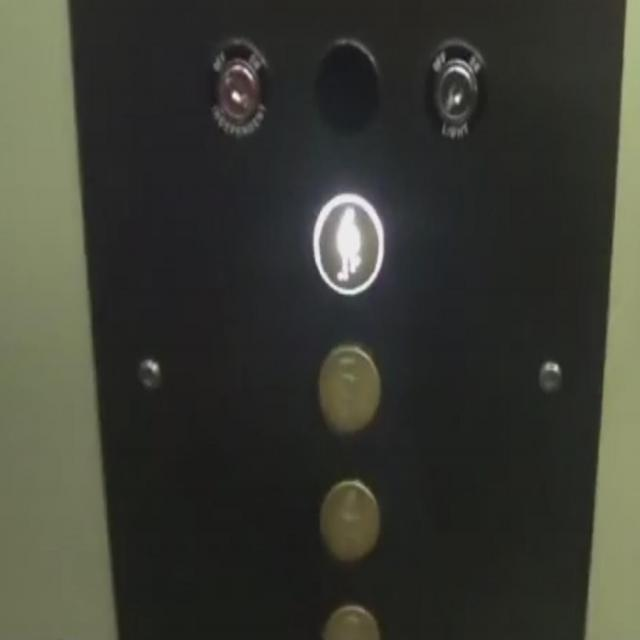4: (317, 481, 380, 564)
5: (316, 341, 381, 435)
blur: (313, 188, 385, 295)
empty: (315, 32, 380, 138)
keyhole: (423, 37, 486, 140), (206, 36, 268, 137)
